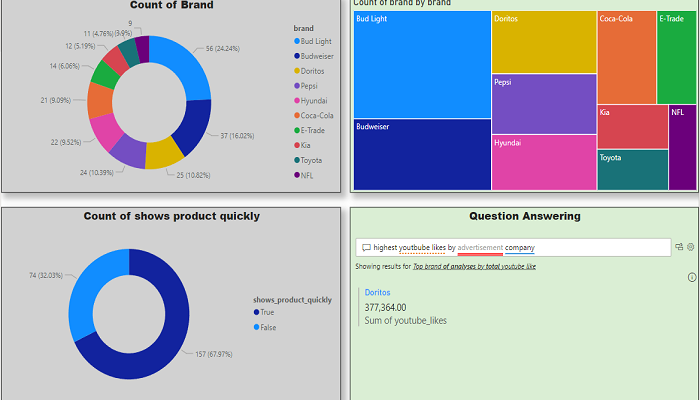

The dashboard page shown, as its layout file describes it:
{"tool":"powerbi","page":{"name":"Vis_5","canvas":[1280,720],"ordinal":6},"visuals":[{"type":"donutChart","title":"Count of Brand","fields":{"Category":["analysis.brand"],"Y":["CountNonNull(analysis.brand)"]},"box":[0,0,623.5,335.1],"z":0},{"type":"donutChart","title":"Count of shows product quickly","fields":{"Y":["CountNonNull(analysis.shows_product_quickly)"],"Category":["analysis.shows_product_quickly"]},"box":[0,359.8,623.5,335.1],"z":1000},{"type":"treemap","fields":{"Group":["analysis.brand"],"Values":["CountNonNull(analysis.brand)"]},"box":[640,0,640,335.1],"z":2000},{"type":"qnaVisual","title":"Question Answering","box":[640,359.8,640,335.1],"z":3000}]}

Visuals, with their boxes in screenshot pixels (x1, y1, x2, y2), scaled from the page's 1280x720 canvas onto the 700x400 screenshot:
"Count of Brand" donutChart: select_region(0, 0, 341, 186)
"Count of shows product quickly" donutChart: select_region(0, 200, 341, 386)
treemap - analysis.brand x CountNonNull(analysis.brand): select_region(350, 0, 699, 186)
"Question Answering" qnaVisual: select_region(350, 200, 699, 386)
